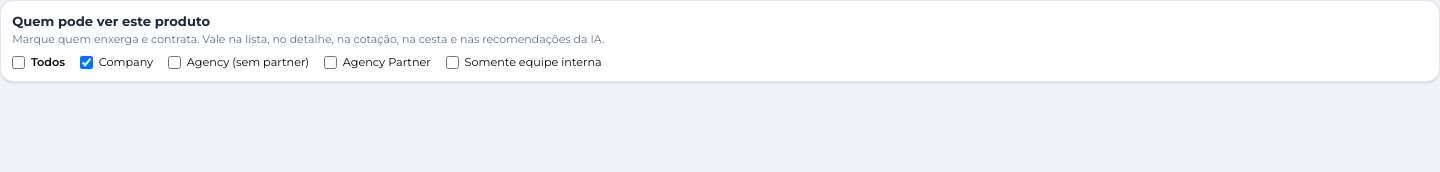
Público do produto: salva sozinho (P-4) › "Todos" é um atalho que marca os três públicos de cliente; limpar tudo avisa e não grava vazio
This screenshot has width=1440, height=172.
Click the checkbox labelled "Todos" at (19, 62), box [12,56,25,69]
Wait 900 ms
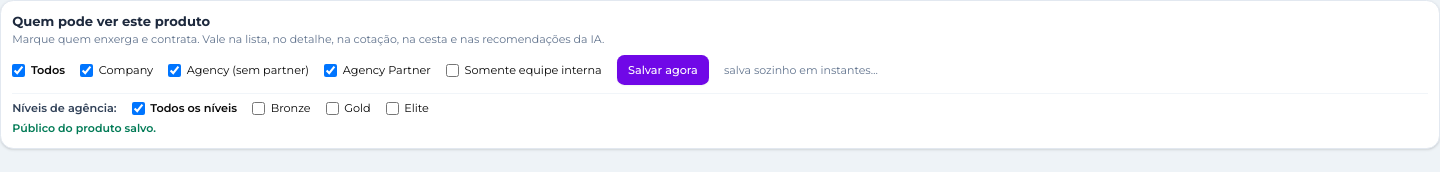
Click the checkbox labelled "Todos" at (19, 70), box [12,64,25,76]
Wait 1500 ms
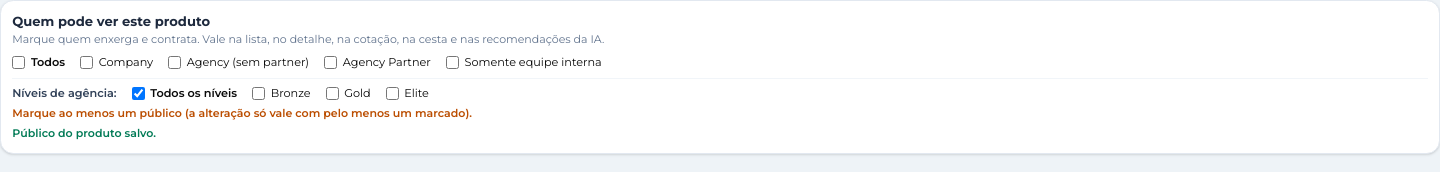
expect the message "Marque ao menos um público (a alteração só vale com pelo menos um marcado)." is shown: met, box [12,106,472,120]
